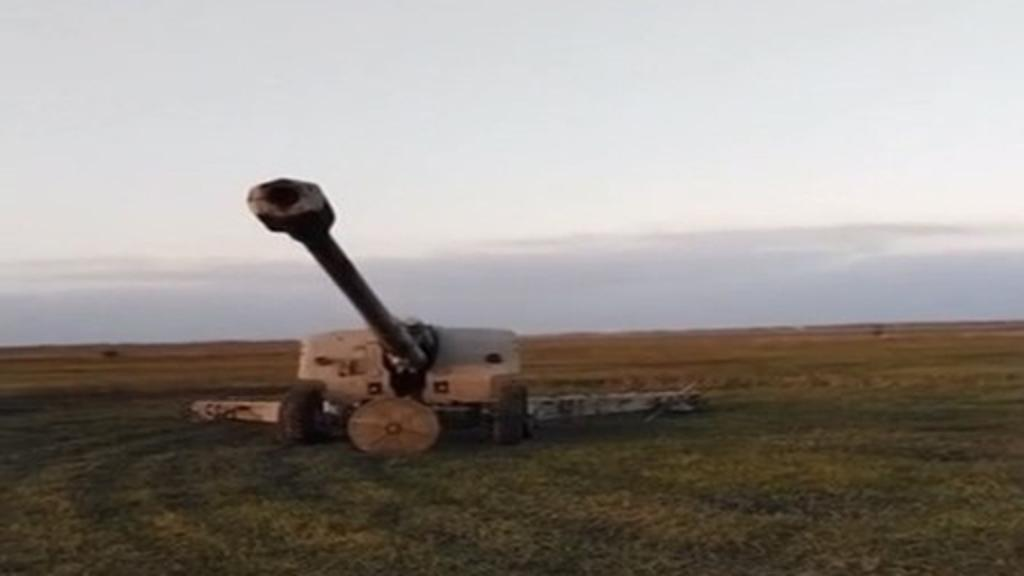ART: (182, 174, 706, 454)
